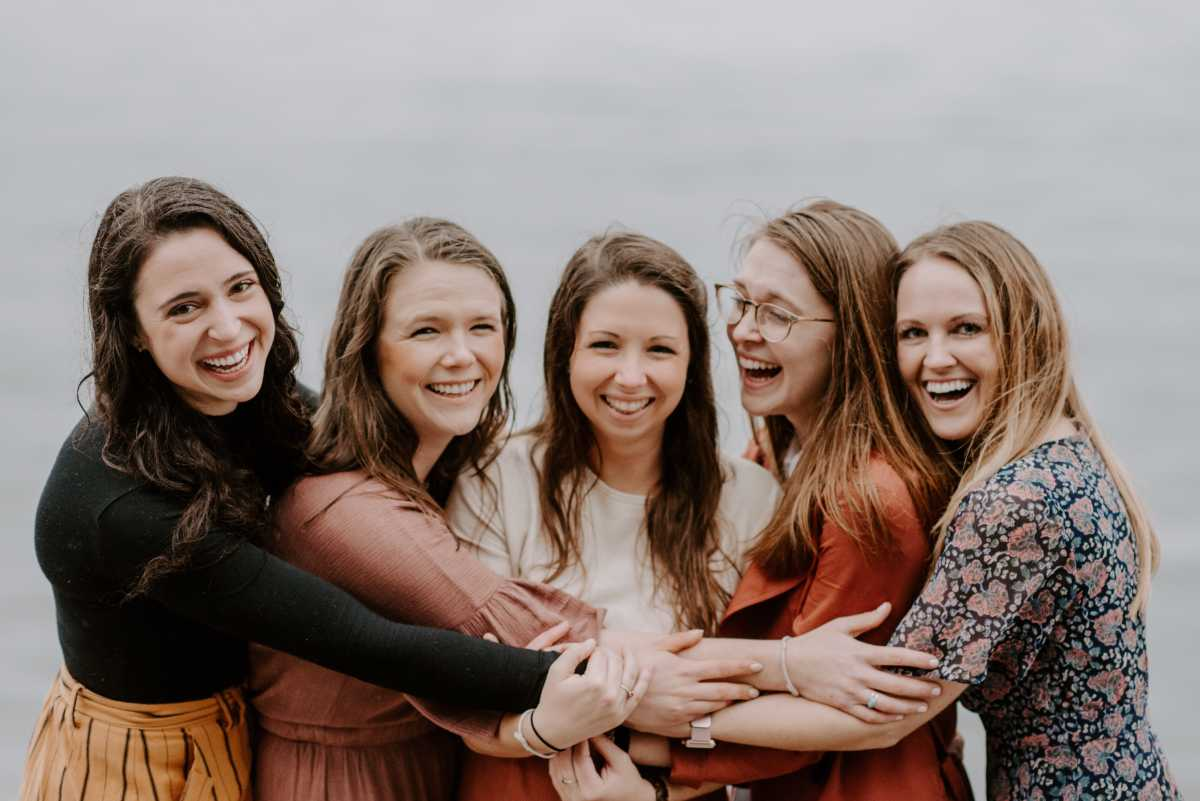bare: (381, 347, 507, 434), (153, 314, 273, 398), (897, 353, 1003, 438), (572, 360, 683, 440), (726, 323, 809, 415)
